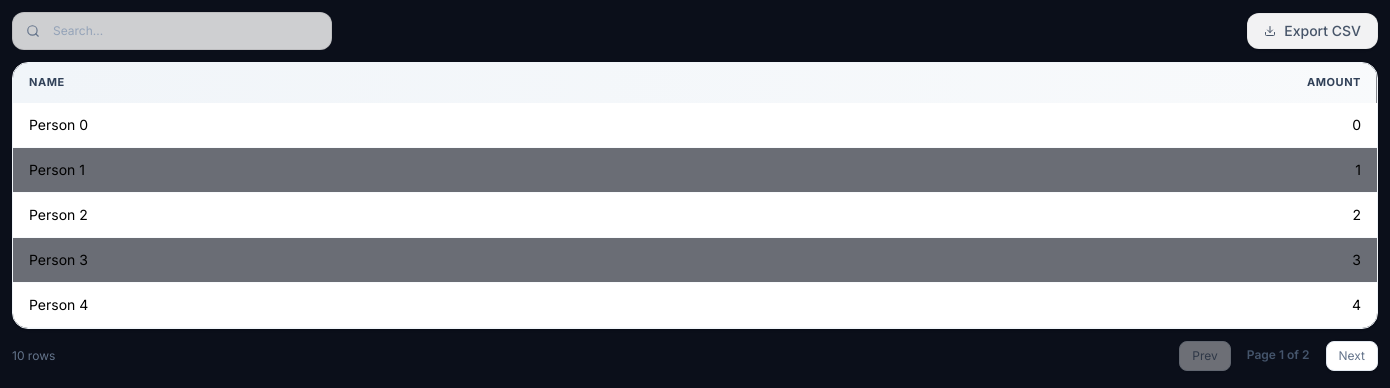
Test: DataTable › Next button is disabled on last page
Click the button "Next" at (1352, 356), box left=1326, top=341, right=1378, bottom=371
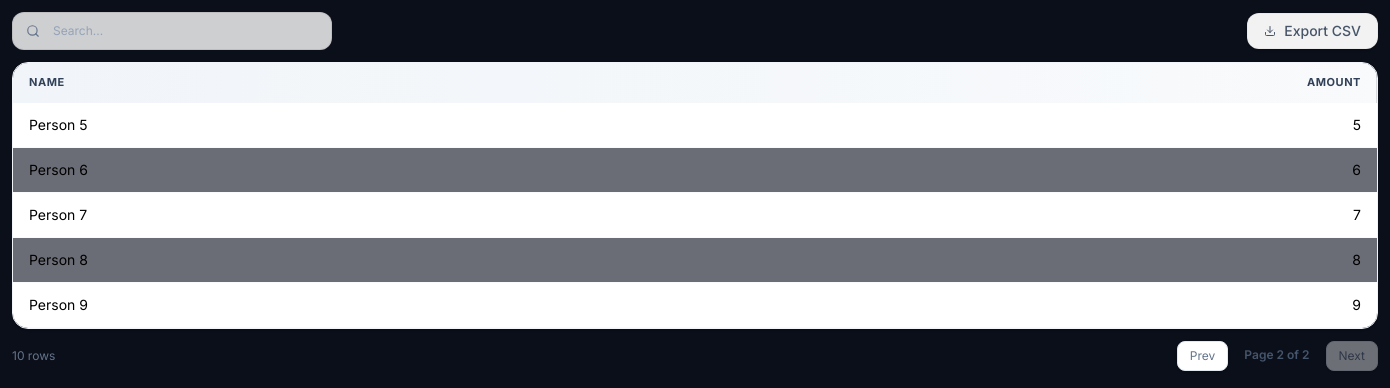
Result: the button with aria-label "Next page" is disabled at left=1326, top=341, right=1378, bottom=371
